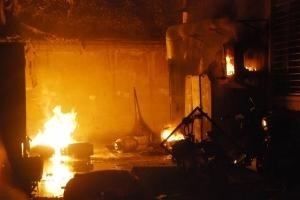fire: (24, 103, 78, 193), (160, 122, 186, 144), (223, 51, 237, 77), (244, 53, 259, 72)
